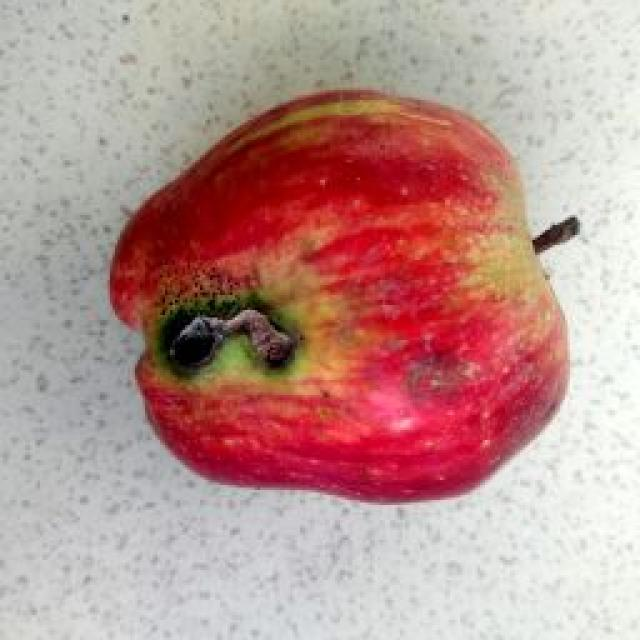Bad_Apple: (110, 91, 566, 501)
